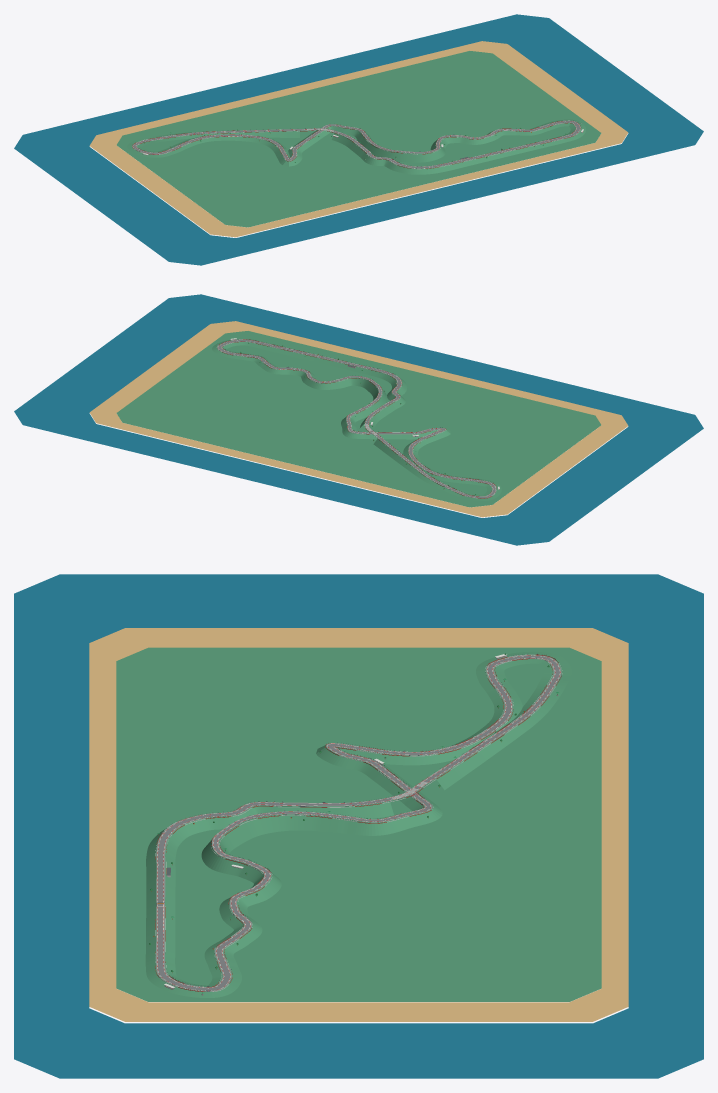
The model's file is suzuka.glb.
3 views of the same model, one above another, from view 1: azimuth 30°, elevation 25°; view 2: azimuth 150°, elevation 25°; view 3: azimuth 270°, elevation 25° (orthographic). The views are drawn at different scales.
Visible parts, largest first — view 1: island_vegetation, ocean, sand_island, track_embankment, track_surface, track_runoff, continuous_safety_barriers; view 2: island_vegetation, ocean, sand_island, track_embankment, track_surface, track_runoff, continuous_safety_barriers; view 3: island_vegetation, ocean, sand_island, track_embankment, track_surface, track_runoff, continuous_safety_barriers, track_curbs.
Boxes of the visible parts, x1,y1,x2,y2 form: island_vegetation: (116, 51, 601, 227); ocean: (14, 14, 703, 265); sand_island: (89, 41, 628, 237); track_embankment: (127, 119, 585, 174); track_surface: (133, 121, 579, 168); track_runoff: (132, 120, 580, 168); continuous_safety_barriers: (132, 120, 581, 169); island_vegetation: (116, 331, 601, 507); ocean: (14, 294, 703, 545); sand_island: (89, 321, 628, 517); track_embankment: (212, 339, 501, 500); track_surface: (218, 340, 495, 497); track_runoff: (217, 339, 496, 498); continuous_safety_barriers: (217, 339, 496, 498); island_vegetation: (116, 647, 601, 1001); ocean: (14, 574, 703, 1078); sand_island: (89, 628, 628, 1021); track_embankment: (145, 651, 571, 997); track_surface: (157, 656, 559, 990); track_runoff: (155, 655, 561, 991); continuous_safety_barriers: (155, 654, 562, 991); track_curbs: (157, 655, 560, 990).
Bounding box in the file's own units: 3032 × 44.74 × 1753.
